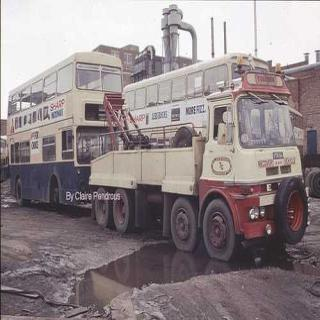Towing_truck: (87, 54, 309, 262)
